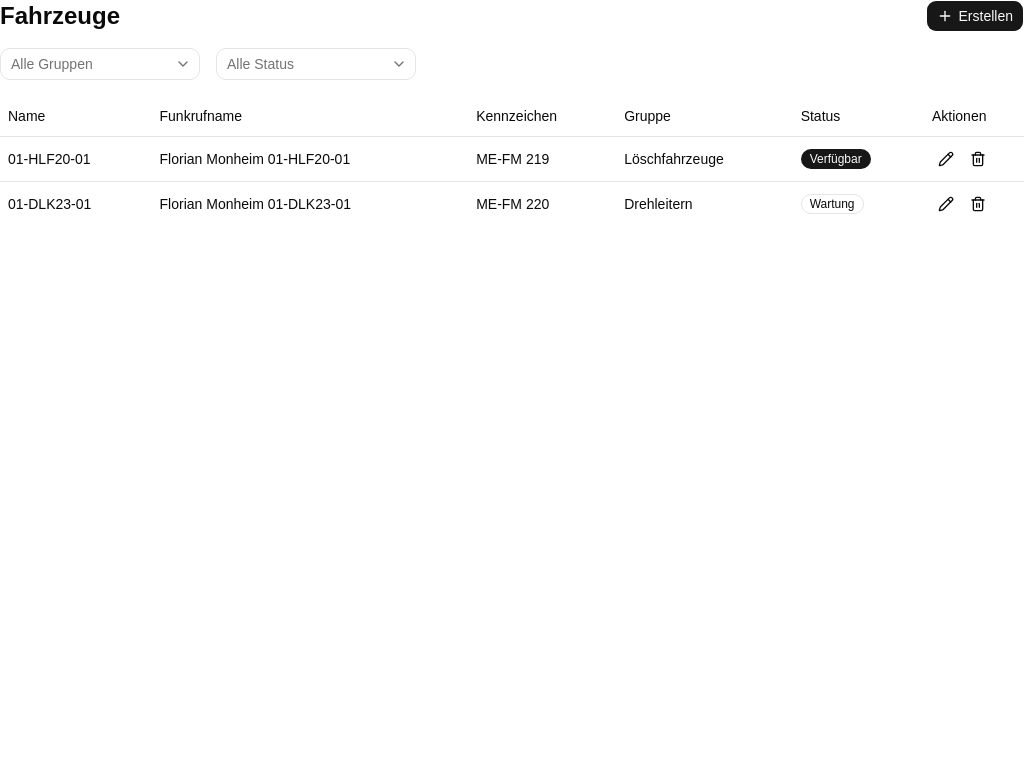
Test case: VehiclesPage › opens create dialog when create button is clicked
Step 1. Click the button "Erstellen" → (975, 16), box [926,0,1023,32]
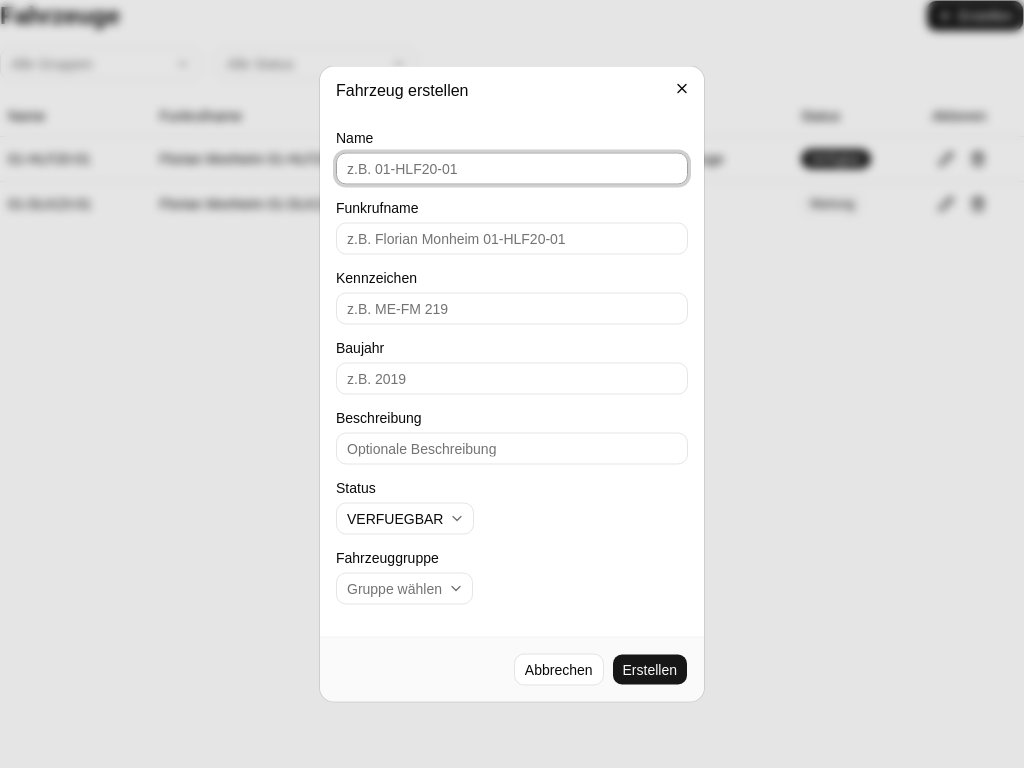
Check: the heading "Fahrzeug erstellen" is shown, box [336,82,468,98]
